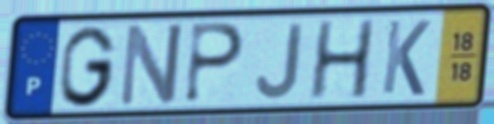G: (57, 23, 119, 110)
H: (305, 17, 378, 102)
J: (253, 20, 306, 102)
K: (378, 18, 434, 99)
N: (115, 20, 187, 110)
P: (181, 20, 248, 106)
